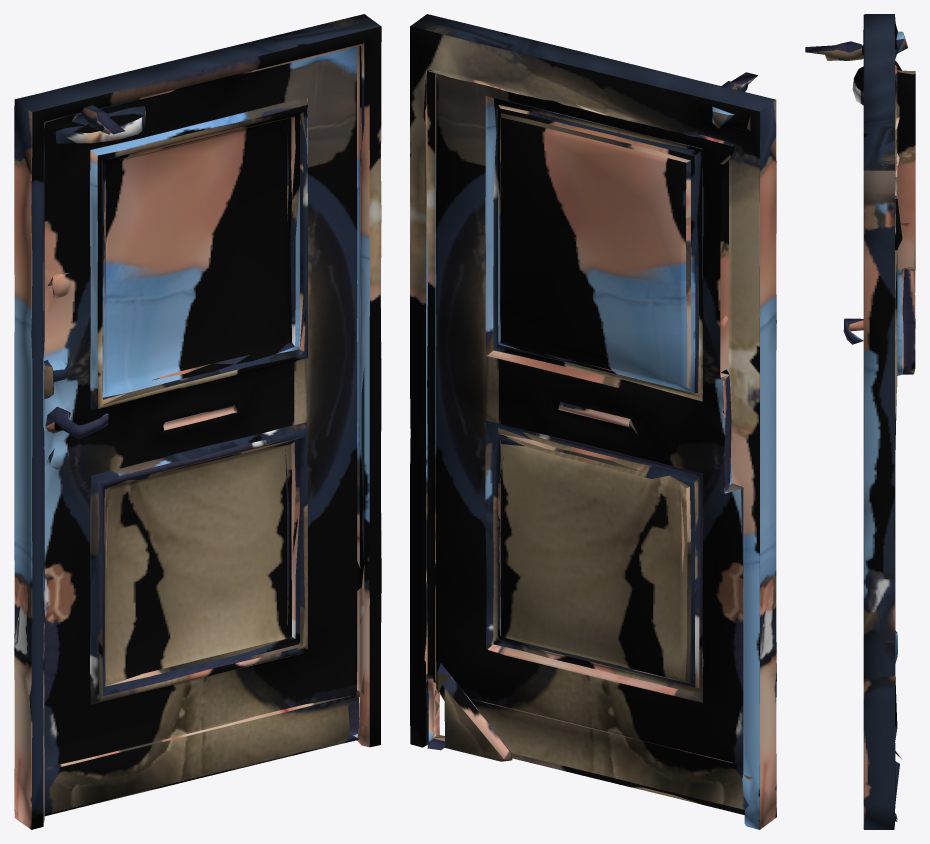
The model's file is door_low.obj.
3 renders of one model, left to right at view 1: azimuth 30°, elevation 25°; view 2: azimuth 150°, elevation 25°; view 3: azimuth 270°, elevation 25°, orthographic. The views are drawn at different scales.
Visible parts, largest first — view 1: Mesh1_0; view 2: Mesh1_0; view 3: Mesh1_0.
Boxes of the visible parts, x1,y1,x2,y2 form: Mesh1_0: (14, 14, 381, 829); Mesh1_0: (410, 14, 776, 829); Mesh1_0: (805, 14, 915, 829).
Bounding box in the file's own units: 1.02 × 2.01 × 0.3045.
